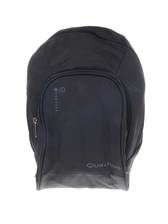bag: (21, 24, 148, 196)
